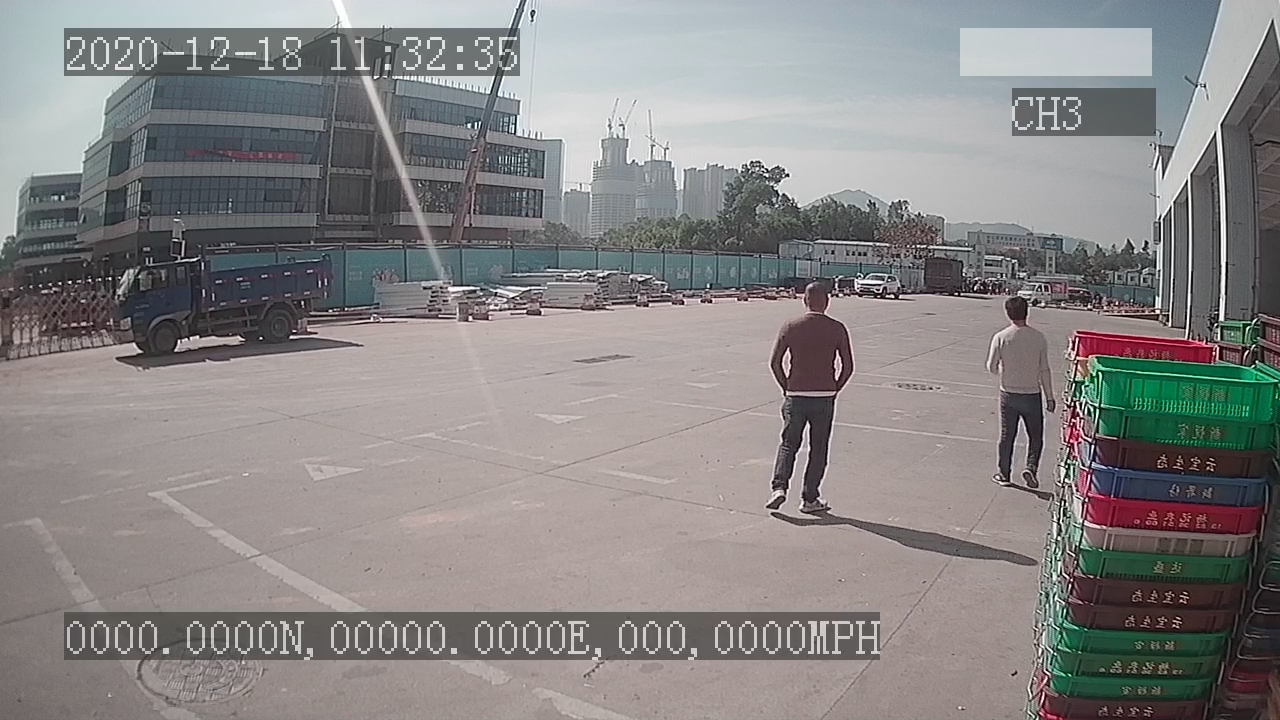person: (763, 279, 853, 521)
